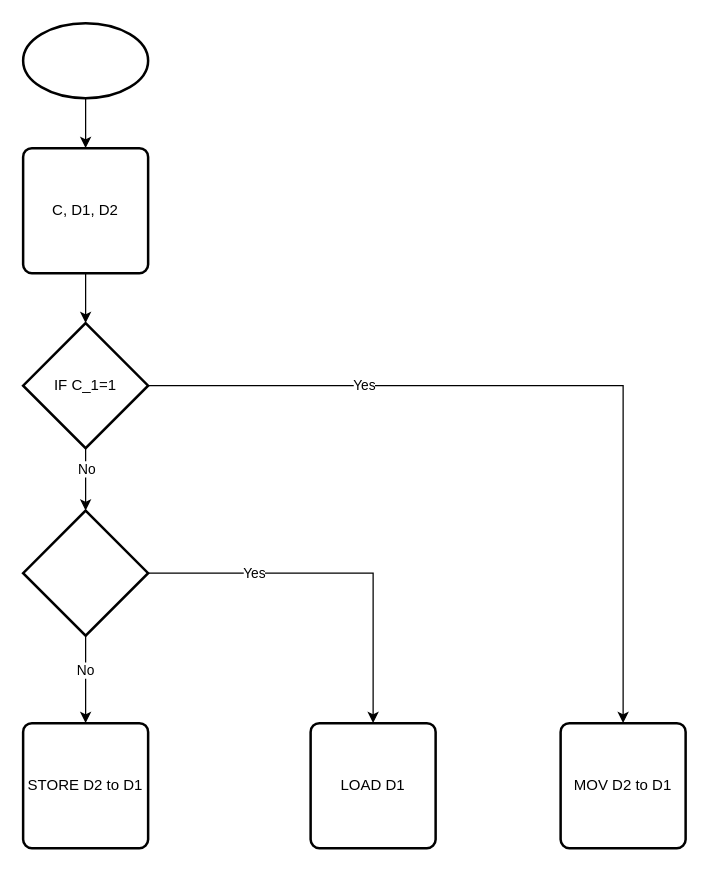
The diagram is 708 pixels wide and 870 high, and some of its shapes have lost their labels. Each missing label, with the centre of its shape:
"IF C_0=1" goes at point 85,572.
"Start" goes at point 85,60.
